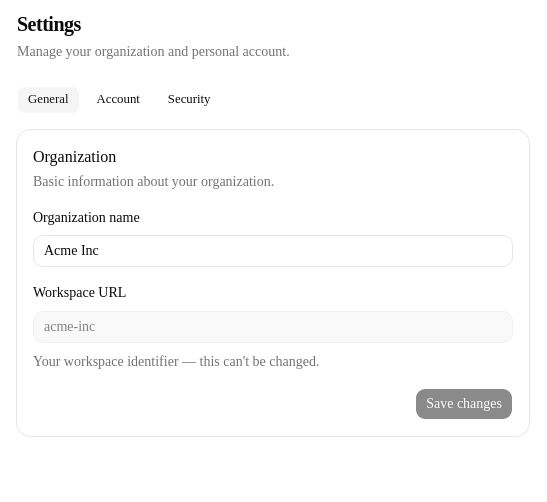
Scenario: SettingsPage › switches to the Account tab and renders the current user's profile
The image size is (547, 502).
Check: the field showing "Acme Inc" is shown, box [33,235,513,267]
Click the button "Account" at (118, 100), box [86,86,151,114]
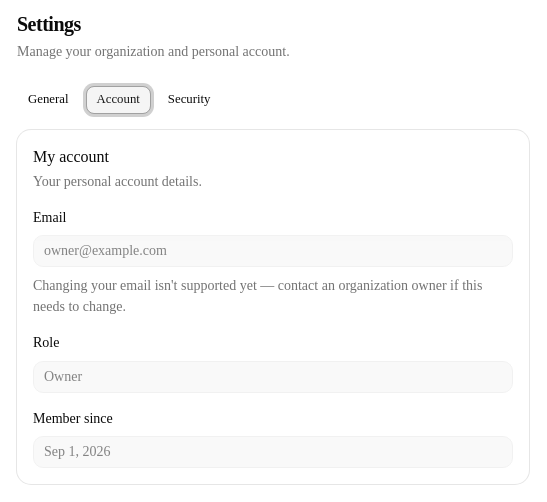
Check: the field showing "owner@example.com" is shown, box [33,235,513,267]
Check: the field showing "Owner" below "Role" is shown, box [33,360,513,392]
